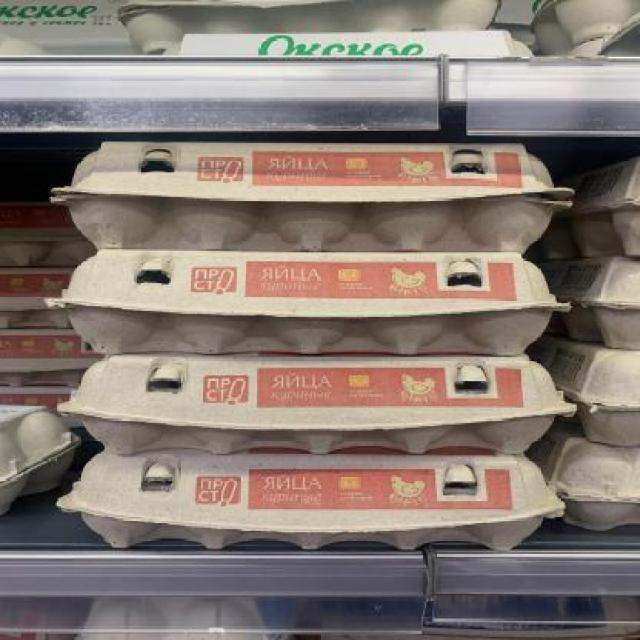egg: (46, 138, 574, 255), (64, 350, 576, 455), (53, 254, 569, 355), (62, 446, 560, 550)
